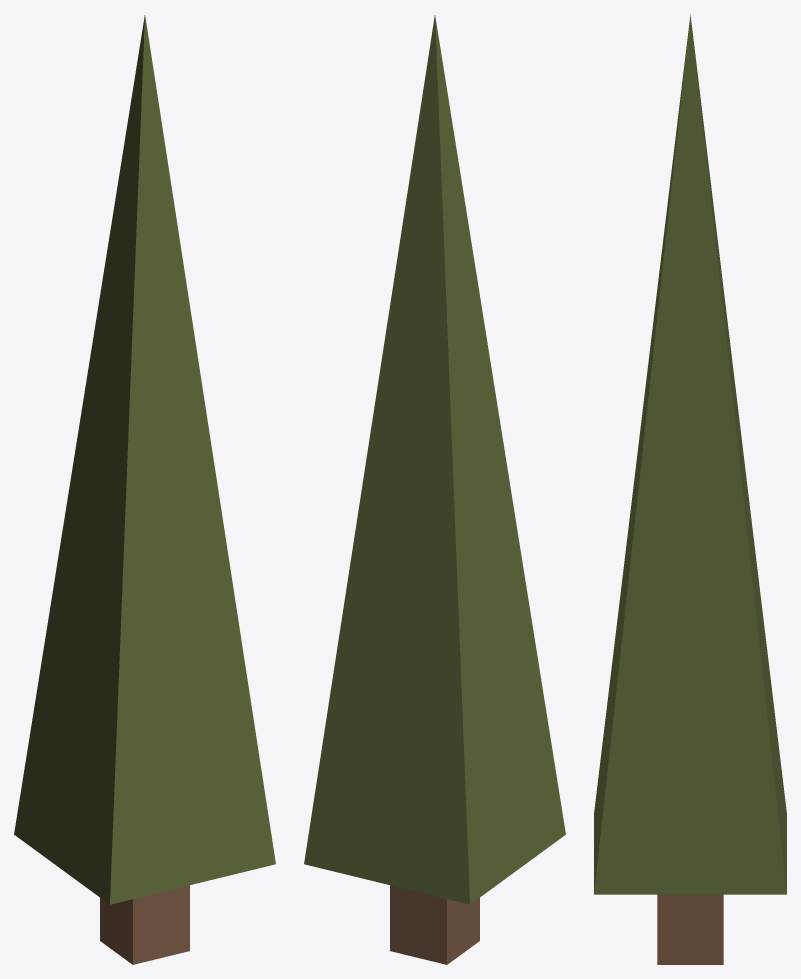
The model's file is fir_tree_12.fbx.
3 renders of one model, left to right at view 1: azimuth 30°, elevation 25°; view 2: azimuth 150°, elevation 25°; view 3: azimuth 270°, elevation 25°, orthographic.
Parts seen in each view (by area): view 1: fir_tree_12; view 2: fir_tree_12; view 3: fir_tree_12.
Part boxes in pixels (x1,y1,x2,y2): fir_tree_12: (14,15,275,964); fir_tree_12: (304,15,565,964); fir_tree_12: (594,14,786,964).
Bounding box in the file's own units: 68.92 × 370 × 68.92.
